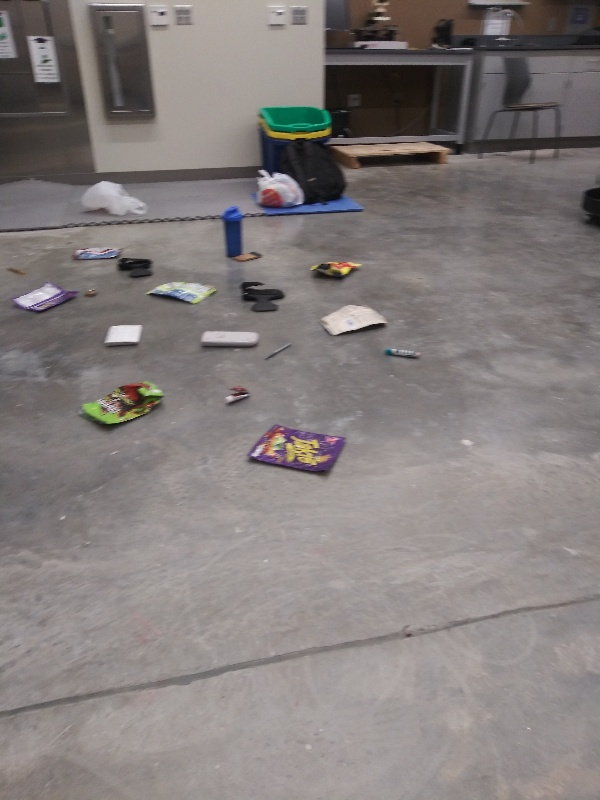bag: (245, 421, 350, 478), (72, 378, 170, 428), (316, 301, 393, 341), (5, 277, 83, 316), (143, 279, 224, 308), (303, 255, 367, 282), (67, 244, 128, 265)
